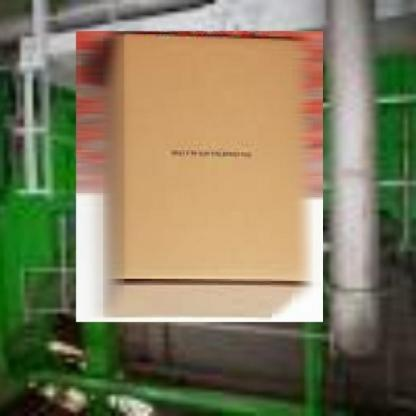box: (71, 26, 327, 326)
